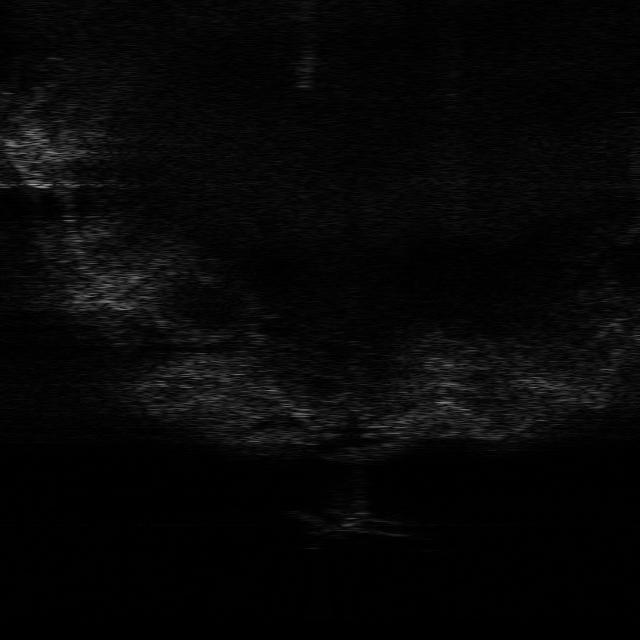plane: (292, 506, 406, 538)
